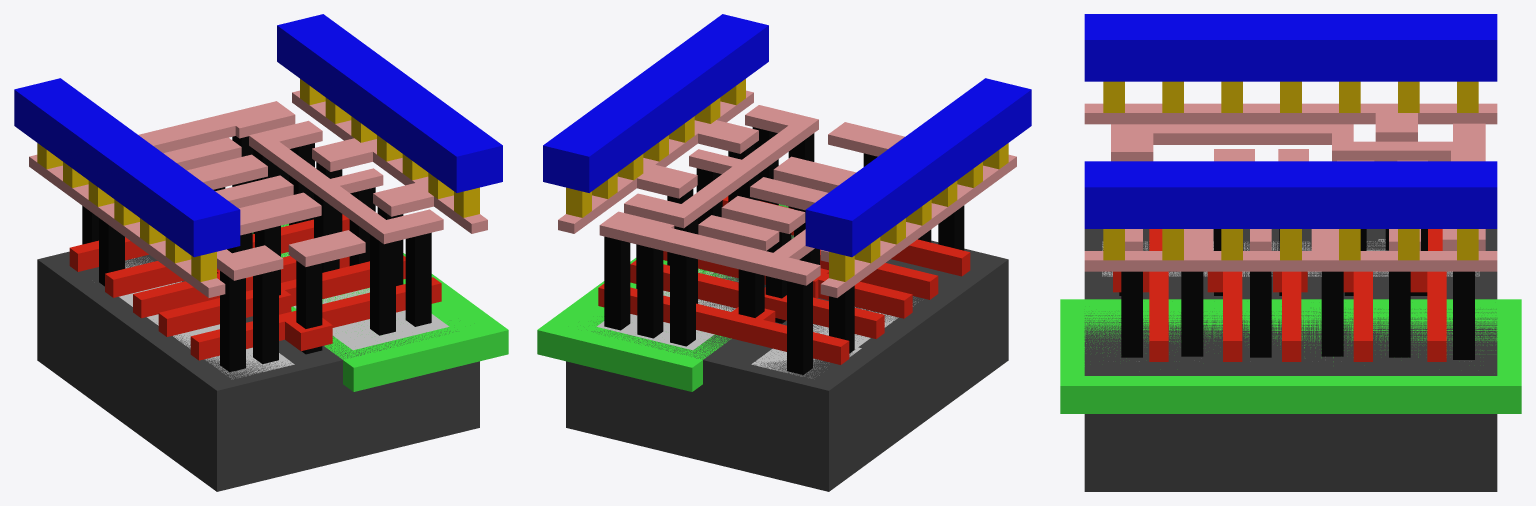
The model's file is sky130_fd_sc_hd__a41oi_1.obj.
3 views of the same model, side by side, from view 1: azimuth 30°, elevation 25°; view 2: azimuth 150°, elevation 25°; view 3: azimuth 270°, elevation 25° (orthographic). The views are drawn at different scales.
Visible parts, largest first — view 1: subs, metal1, li, licon, poly, nwell, mcon, tap, diff; view 2: subs, metal1, li, licon, poly, nwell, mcon, tap, diff; view 3: metal1, subs, li, nwell, licon, poly, mcon, diff.
Part boxes in pixels (x1,y1,x2,y2): subs: (37, 224, 479, 491); metal1: (14, 14, 502, 257); li: (29, 90, 487, 297); licon: (82, 136, 431, 372); poly: (69, 214, 441, 360); nwell: (252, 223, 508, 391); mcon: (37, 79, 479, 281); tap: (282, 226, 449, 350); diff: (119, 257, 294, 379); subs: (566, 204, 1008, 491); metal1: (543, 14, 1031, 257); li: (558, 90, 1016, 297); licon: (604, 127, 964, 374); poly: (598, 196, 970, 364); nwell: (537, 204, 793, 391); mcon: (566, 79, 1008, 281); tap: (596, 269, 738, 350); diff: (751, 301, 918, 378); metal1: (1084, 14, 1497, 228); subs: (1084, 229, 1497, 491); li: (1084, 103, 1497, 271); nwell: (1060, 299, 1521, 413); licon: (1119, 229, 1474, 359); poly: (1113, 229, 1446, 361); mcon: (1103, 81, 1478, 260); diff: (1102, 239, 1479, 276).
Size of the model in its own units: 3.2 by 2.74 by 3.6.
